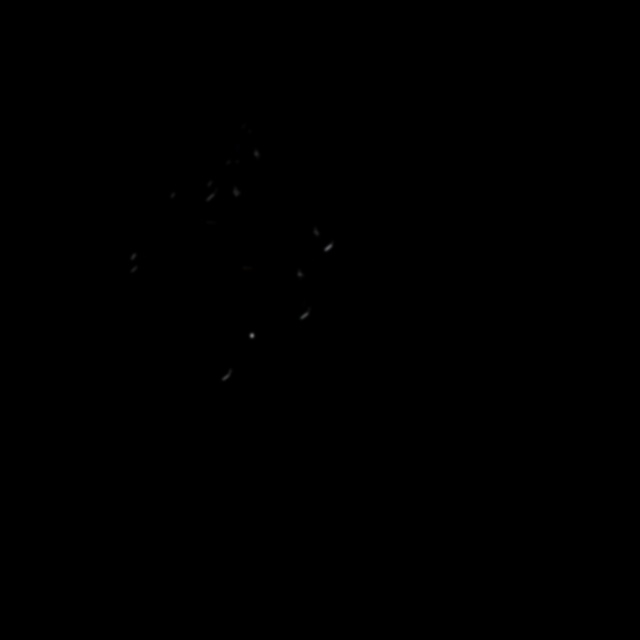satellite: (117, 111, 355, 397)
